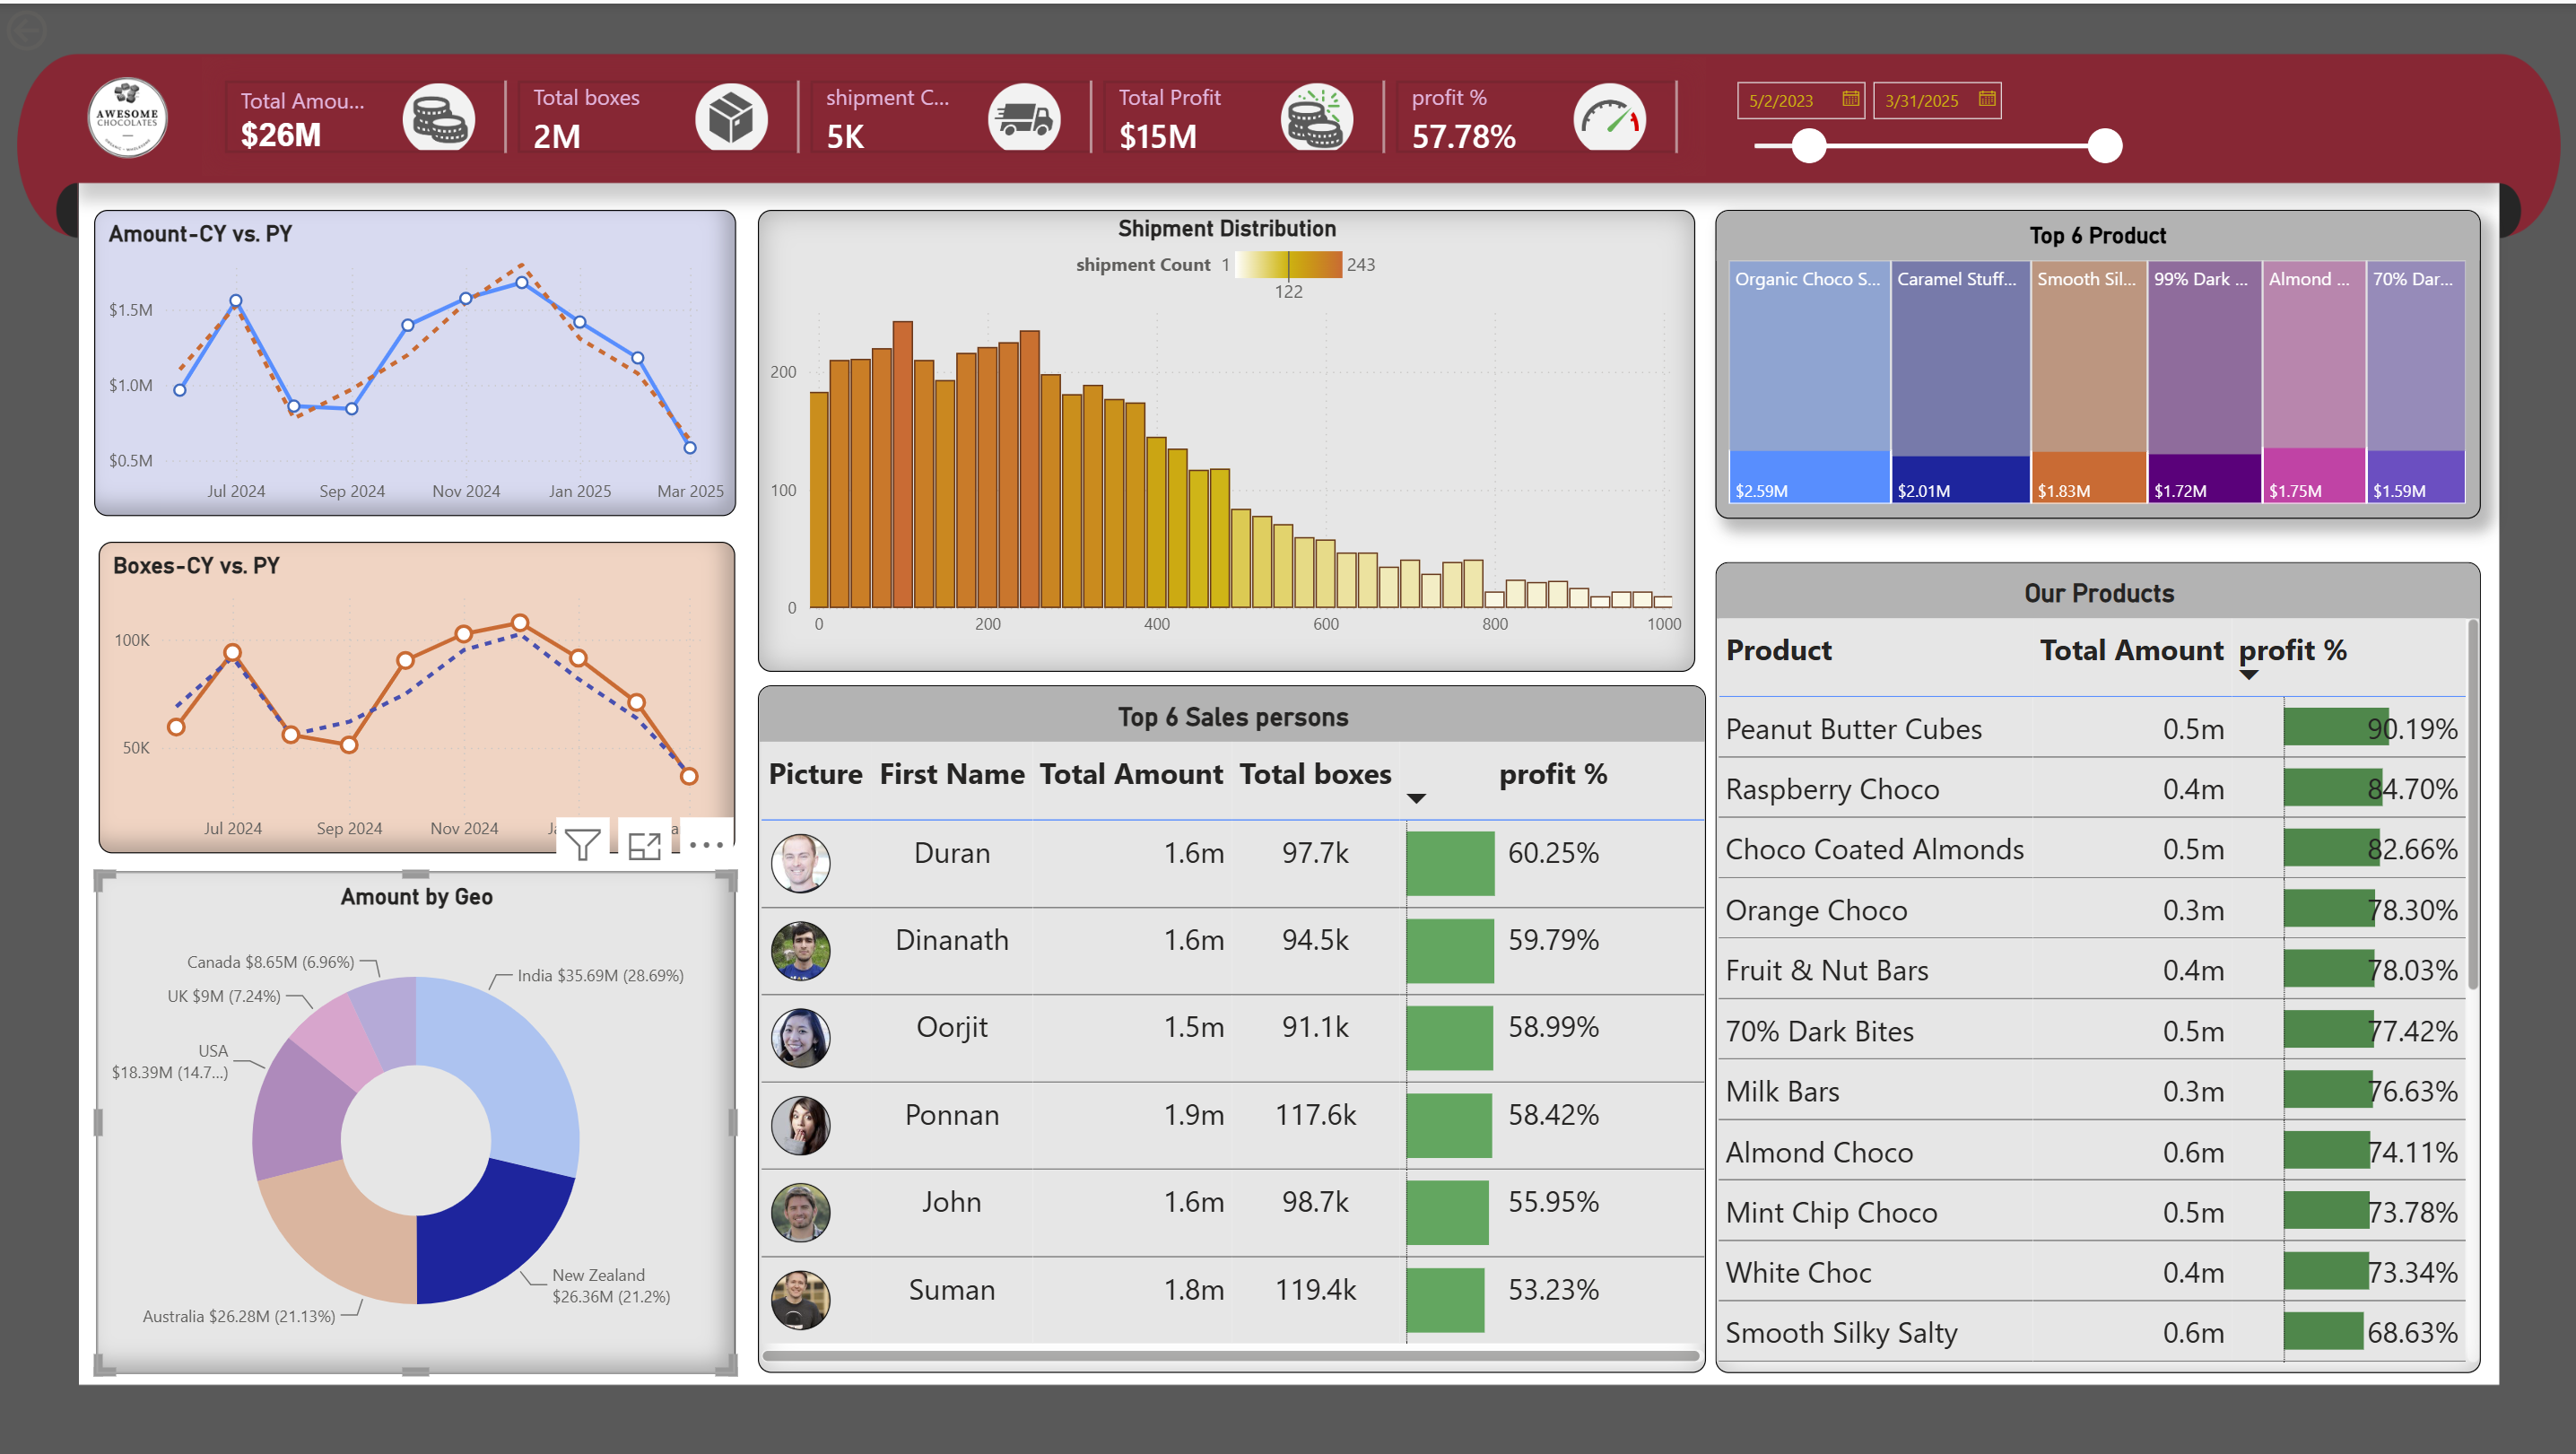

This screenshot's page, from the dashboard's own definition file:
{"tool":"powerbi","page":{"name":"Page 8","canvas":[1920,1080],"ordinal":7},"visuals":[{"type":"lineChart","title":"Amount-CY vs. PY","fields":{"Y":["shipments.Total Amount","shipments.Total amount(last year)"],"Category":["calendar.Start of Month"]},"box":[70,154,478,228],"z":0},{"type":"lineChart","title":"Boxes-CY vs. PY","fields":{"Category":["calendar.Start of Month"],"Y":["shipments.Total boxes","calendar.Total Boxes(last year)"]},"box":[74,400,474,232],"z":1000},{"type":"donutChart","title":"Amount by Geo","fields":{"Category":["locations.Geo"],"Y":["shipments.Total Amount"]},"box":[72,646,476,374],"z":2000},{"type":"clusteredColumnChart","title":"Shipment Distribution","fields":{"Category":["shipments.Boxes (bins)"],"Y":["shipments.shipment Count"]},"box":[564,154,698,344],"z":3000},{"type":"tableEx","title":"Top 6 Sales persons","fields":{"Values":["people.Picture","people.First Name","shipments.Total Amount","shipments.Total boxes","shipments.profit %"]},"box":[564,508,706,512],"z":4000},{"type":"treemap","title":"Top 6 Product","fields":{"Values":["shipments.Total Amount"],"Group":["products.Product"]},"box":[1278,154,570,230],"z":5000},{"type":"actionButton","box":[0,0,100,40],"z":6000},{"type":"tableEx","title":"Our Products","fields":{"Values":["products.Product","shipments.Total Amount","shipments.profit %"]},"box":[1278,416,570,604],"z":7000},{"type":"cardVisual","fields":{"Data":["shipments.Total Amount","shipments.Total boxes","shipments.shipment Count","shipments.Total Profit","shipments.profit %"]},"box":[150,40,1120,88],"z":8000},{"type":"slicer","fields":{"Values":["calendar.cal_date"]},"box":[1280,48,308,72],"z":9000}]}

Visuals, with their boxes in screenshot pixels (x1, y1, x2, y2), scaled from the page's 1920x1080 canvas onto the 2576x1454 screenshot:
"Amount-CY vs. PY" lineChart: (left=94, top=207, right=735, bottom=514)
"Boxes-CY vs. PY" lineChart: (left=100, top=538, right=735, bottom=851)
"Amount by Geo" donutChart: (left=97, top=870, right=735, bottom=1373)
"Shipment Distribution" clusteredColumnChart: (left=757, top=207, right=1693, bottom=670)
"Top 6 Sales persons" tableEx: (left=757, top=683, right=1704, bottom=1373)
"Top 6 Product" treemap: (left=1715, top=207, right=2479, bottom=517)
actionButton: (left=0, top=0, right=135, bottom=54)
"Our Products" tableEx: (left=1715, top=560, right=2479, bottom=1373)
cardVisual - shipments.Total Amount x shipments.Total boxes: (left=201, top=54, right=1704, bottom=172)
slicer - calendar.cal_date: (left=1718, top=65, right=2130, bottom=161)
